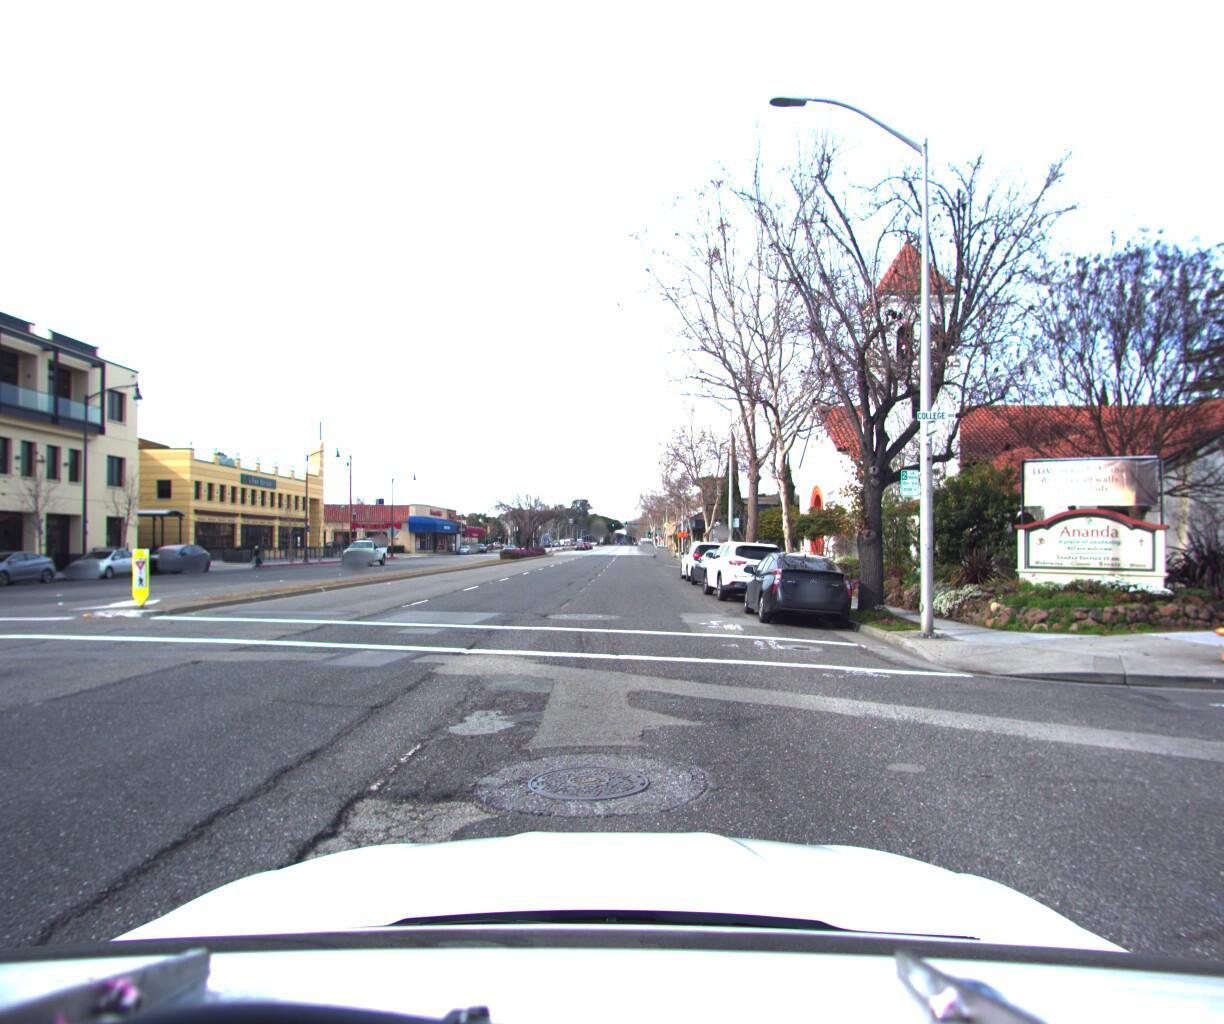bicycle: (248, 543, 272, 567)
car: (736, 545, 860, 630), (701, 536, 793, 602), (683, 544, 764, 591), (64, 545, 160, 581), (677, 535, 740, 580), (139, 542, 218, 575), (342, 534, 390, 562)
